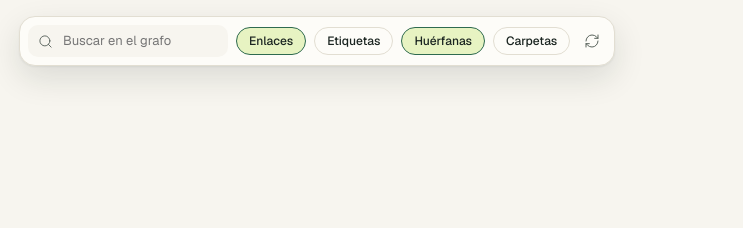
Test: GraphFilterPanel folders › selecting a folder restricts the graph, closes the popover and labels the chip
This screenshot has width=743, height=228.
Click the button with test id "toggle-folders": (532, 41) [493,27,570,55]
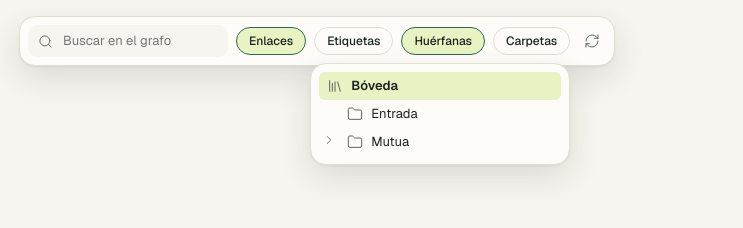
Click the button with test id "folder-toggle-Mutua": (329, 142) [319,128,339,156]
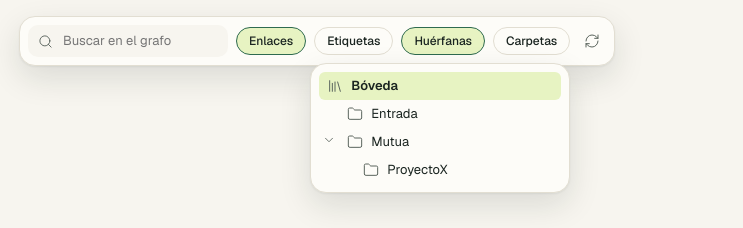
Click the list item with test id "folder-option-Mutua/ProyectoX": (458, 170) [355,156,561,184]
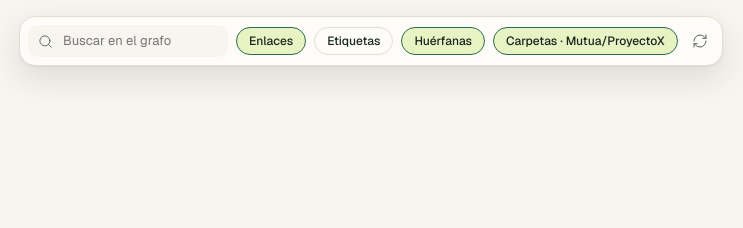
Expected: the element with test id "folder-popover" is gone
Expected: the button with test id "toggle-folders" reads "Carpetas · Mutua/ProyectoX", [493,27,678,55]
